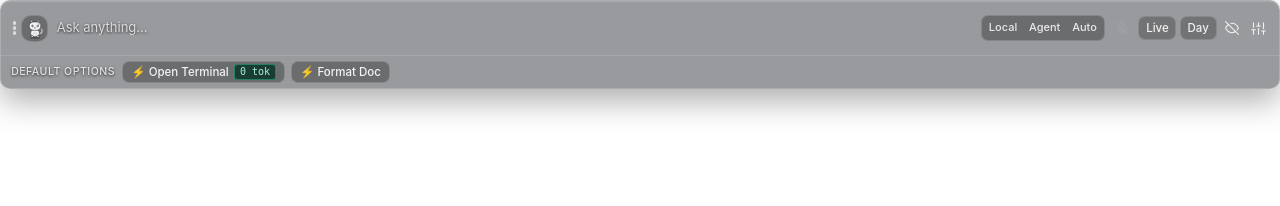
Test case: FloatingBar › shows Groq timeout fallback prompt and retries with Local VLM on click
Type "timeout-test" into the field with test id "bar-query-input" at (515, 28), box top-left (52, 18), bottom-right (978, 37)
Then press Enter
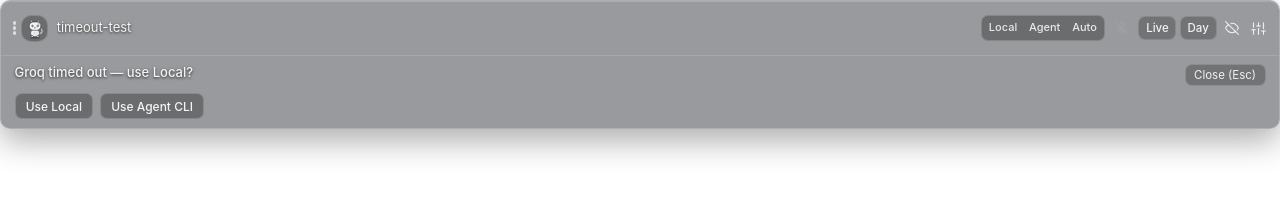
Now the message with test id "response-error" shows "Groq timed out — use Local?", box top-left (14, 64), bottom-right (193, 80)
Click the button with test id "fallback-btn-local_vlm" at (54, 106), box top-left (14, 93), bottom-right (93, 119)
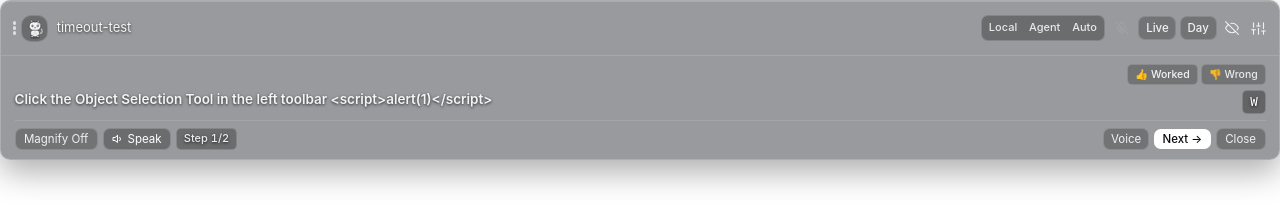
Now the element with test id "response-block" is shown, box top-left (1, 55), bottom-right (1279, 159)
